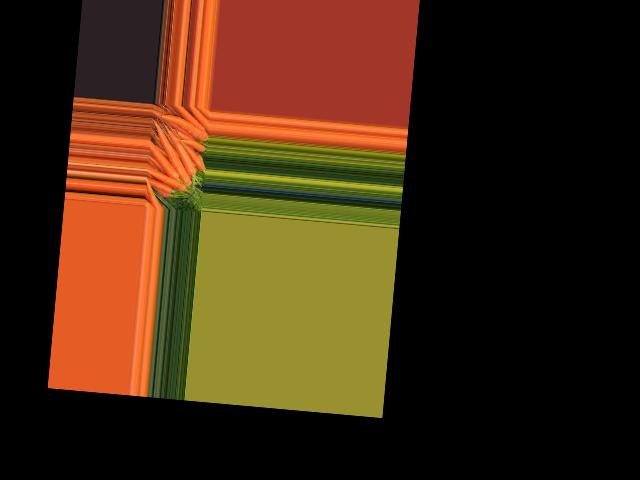carrot: (145, 140, 181, 179)
